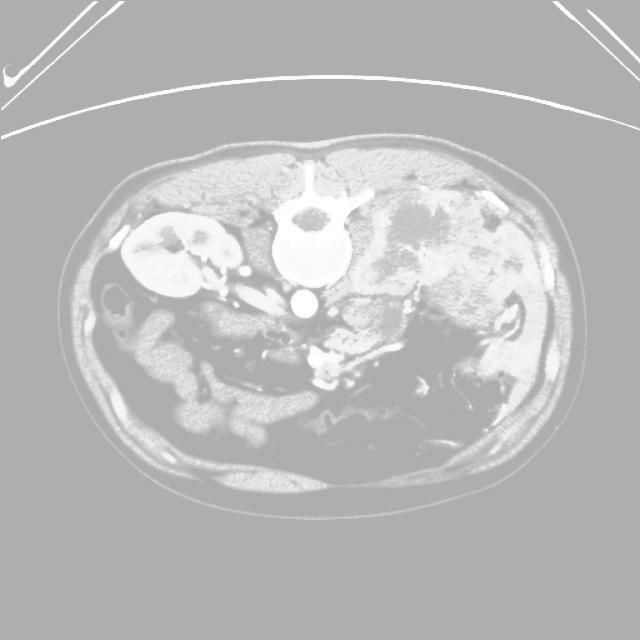TUMOR: (104, 239, 594, 467)
